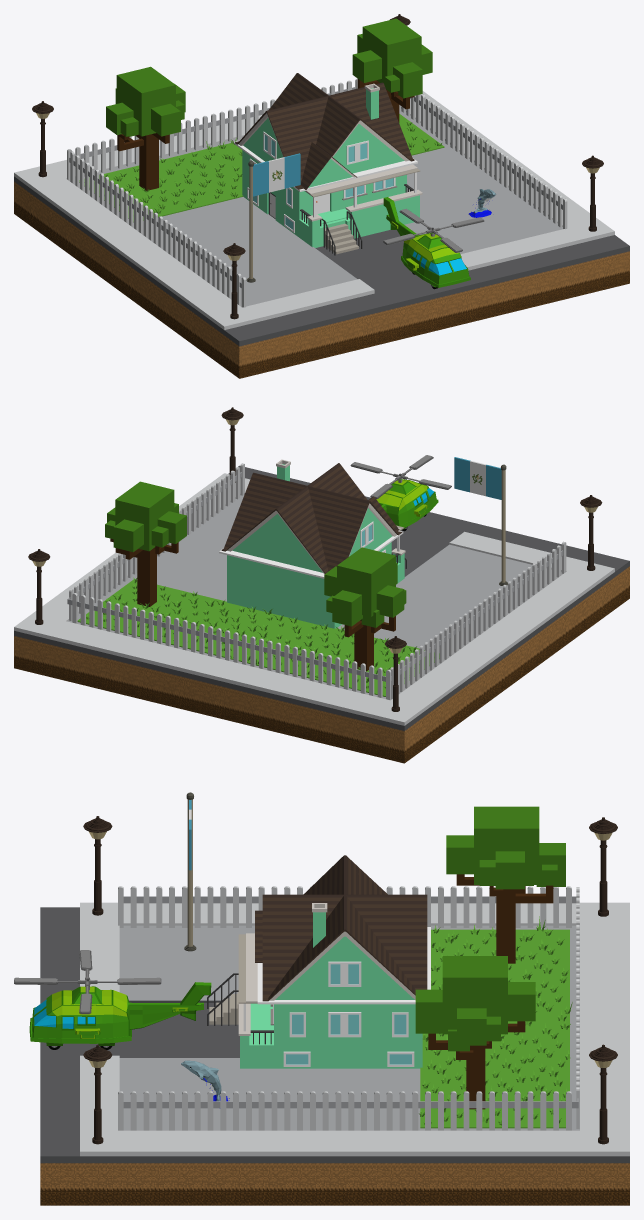
3 renders of one model, top to bottom at view 1: azimuth 30°, elevation 25°; view 2: azimuth 150°, elevation 25°; view 3: azimuth 270°, elevation 25°, orthographic. The views are drawn at different scales.
Visible parts, largest first — view 1: Cube.004, Cube.352, VEHICLES_HELICOPTER, OBJRANDOM_GUATEMALAN_FLAG; view 2: Cube.004, Cube.352, VEHICLES_HELICOPTER, OBJRANDOM_GUATEMALAN_FLAG; view 3: Cube.004, Cube.352, VEHICLES_HELICOPTER, OBJRANDOM_GUATEMALAN_FLAG, ANIMAL_DELFIN.
Part boxes in pixels (left/top/right/bottom): Cube.004: left=14, top=14, right=629, bottom=378; Cube.352: left=233, top=73, right=422, bottom=255; VEHICLES_HELICOPTER: left=383, top=197, right=484, bottom=289; OBJRANDOM_GUATEMALAN_FLAG: left=246, top=153, right=300, bottom=282; Cube.004: left=14, top=407, right=629, bottom=763; Cube.352: left=219, top=459, right=406, bottom=628; VEHICLES_HELICOPTER: left=350, top=455, right=451, bottom=531; OBJRANDOM_GUATEMALAN_FLAG: left=454, top=457, right=507, bottom=585; Cube.004: left=40, top=806, right=629, bottom=1205; Cube.352: left=207, top=855, right=430, bottom=1068; VEHICLES_HELICOPTER: left=14, top=950, right=211, bottom=1049; OBJRANDOM_GUATEMALAN_FLAG: left=184, top=792, right=196, bottom=951; ANIMAL_DELFIN: left=181, top=1060, right=229, bottom=1101.
Bounding box in the file's own units: 4000 × 1639 × 4179.
38 materials, 3 textured.
